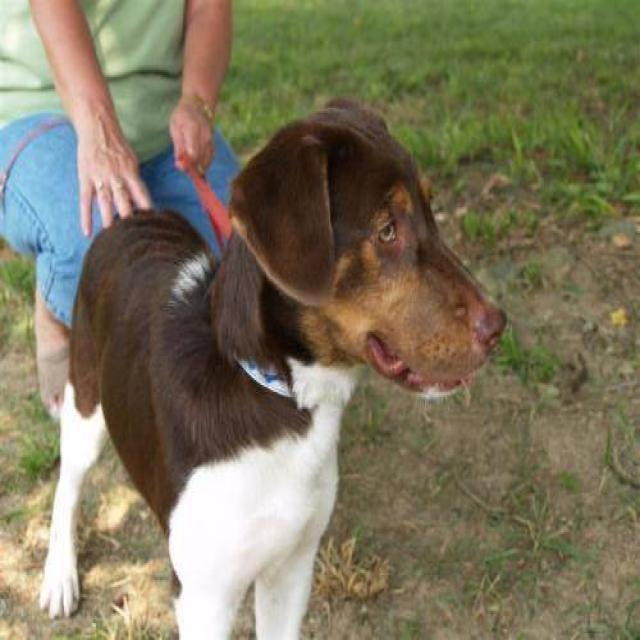dogs: (41, 66, 508, 640)
